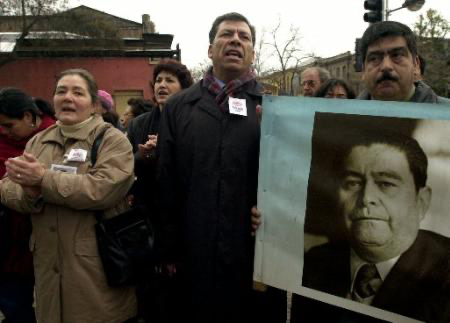Face: (333, 142, 420, 258), (364, 37, 420, 97), (214, 18, 252, 74), (53, 76, 95, 123), (151, 72, 181, 103), (298, 65, 322, 101)
